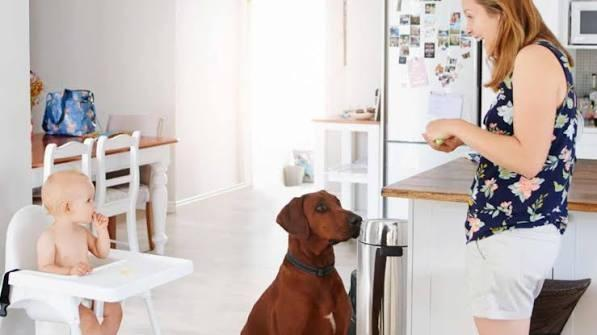adult_dog: (238, 190, 364, 335)
non-dog: (420, 1, 580, 335), (34, 171, 126, 335)
